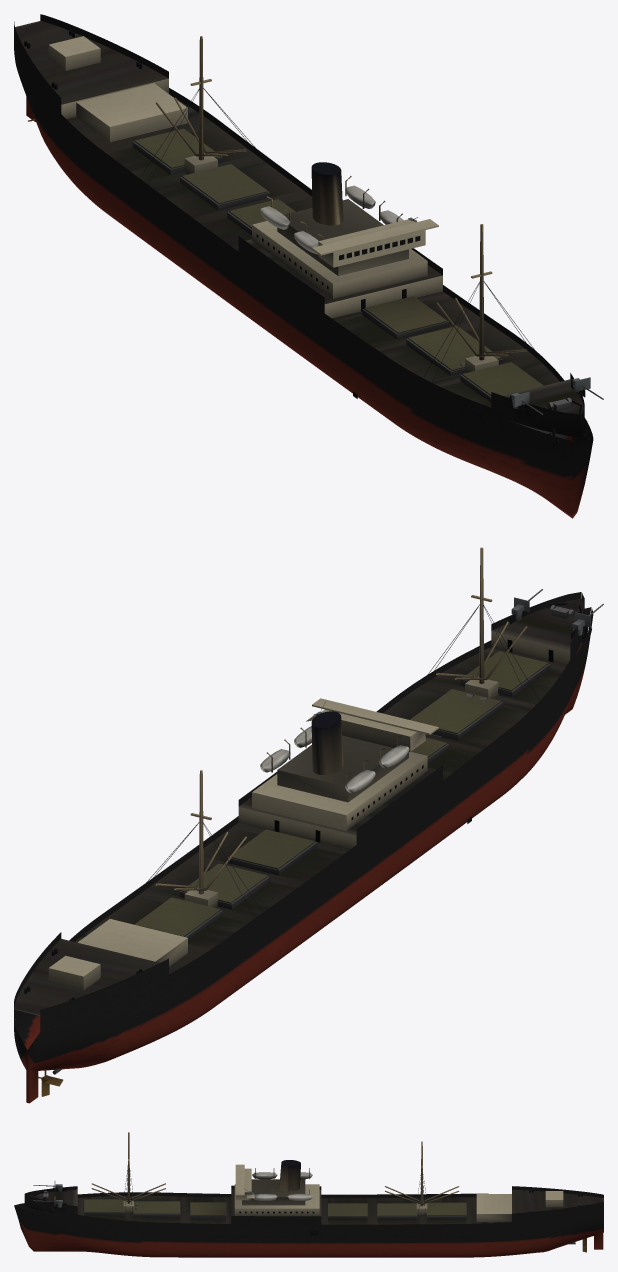
File: model_built.glb
3 renders of one model, top to bottom at view 1: azimuth 30°, elevation 25°; view 2: azimuth 150°, elevation 25°; view 3: azimuth 270°, elevation 25°, orthographic. The views are drawn at different scales.
Parts seen in each view (by area): view 1: main; view 2: main; view 3: main.
Part boxes in pixels (left/top/right/bottom): main: left=14, top=14, right=603, bottom=518; main: left=14, top=547, right=603, bottom=1103; main: left=14, top=1132, right=603, bottom=1257.
Bounding box in the file's own units: 20.28 × 37.28 × 167.
1 material, 1 textured.
